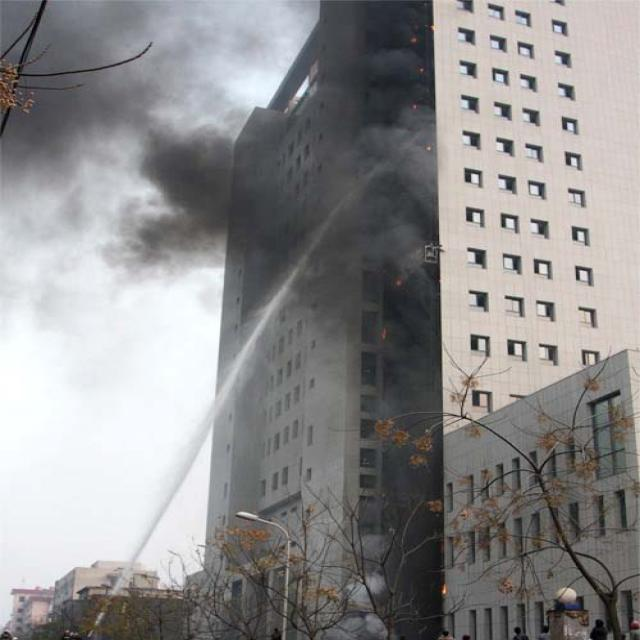Smoke: (6, 0, 233, 265)
